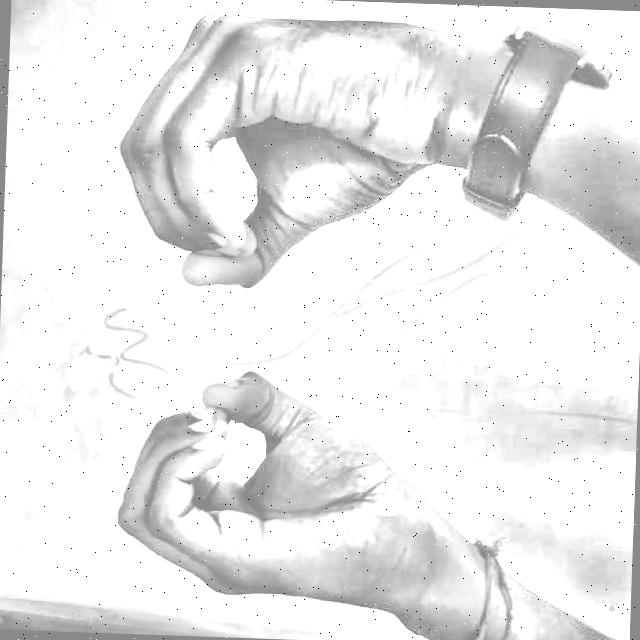Bisharga: (78, 0, 470, 630)
